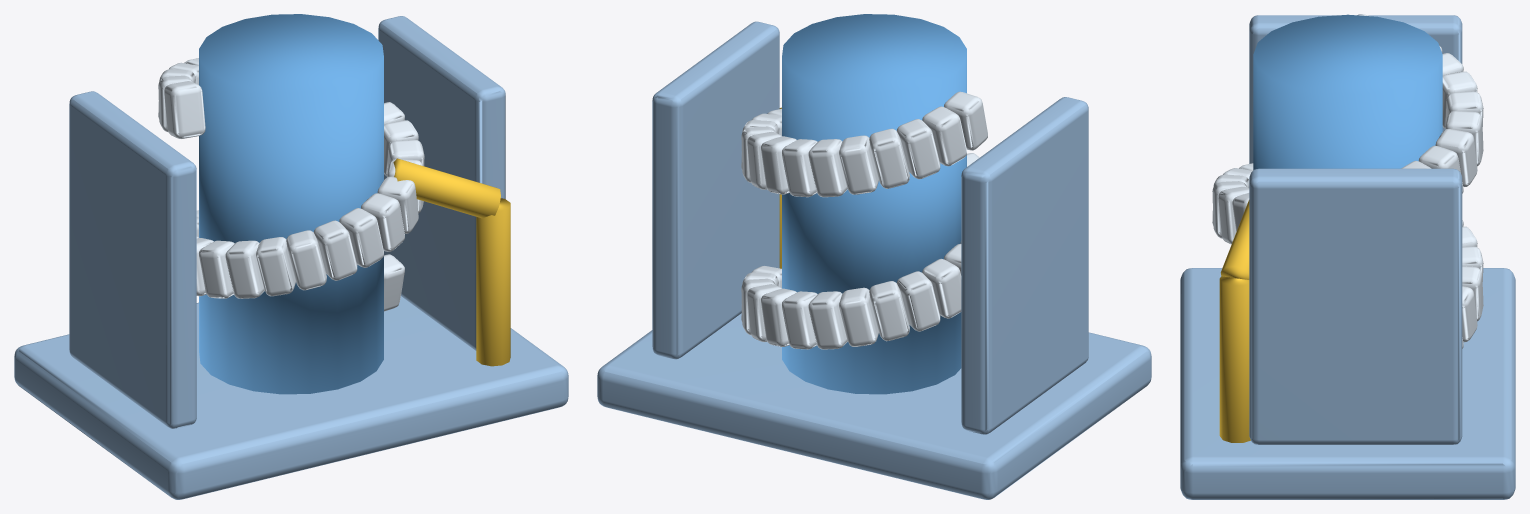
The model's file is pcv_journal_replay_drum.glb.
3 renders of one model, left to right at view 1: azimuth 30°, elevation 25°; view 2: azimuth 150°, elevation 25°; view 3: azimuth 270°, elevation 25°, orthographic.
Visible parts, largest first — view 1: pcv_journal_replay_drum_MOBILE_JOINED; view 2: pcv_journal_replay_drum_MOBILE_JOINED; view 3: pcv_journal_replay_drum_MOBILE_JOINED.
Boxes of the visible parts, bbox=[...] form: pcv_journal_replay_drum_MOBILE_JOINED: bbox=[14, 14, 568, 499]; pcv_journal_replay_drum_MOBILE_JOINED: bbox=[597, 14, 1151, 499]; pcv_journal_replay_drum_MOBILE_JOINED: bbox=[1180, 14, 1515, 499].
Size of the model in its own units: 1.19 by 0.98 by 0.85.
